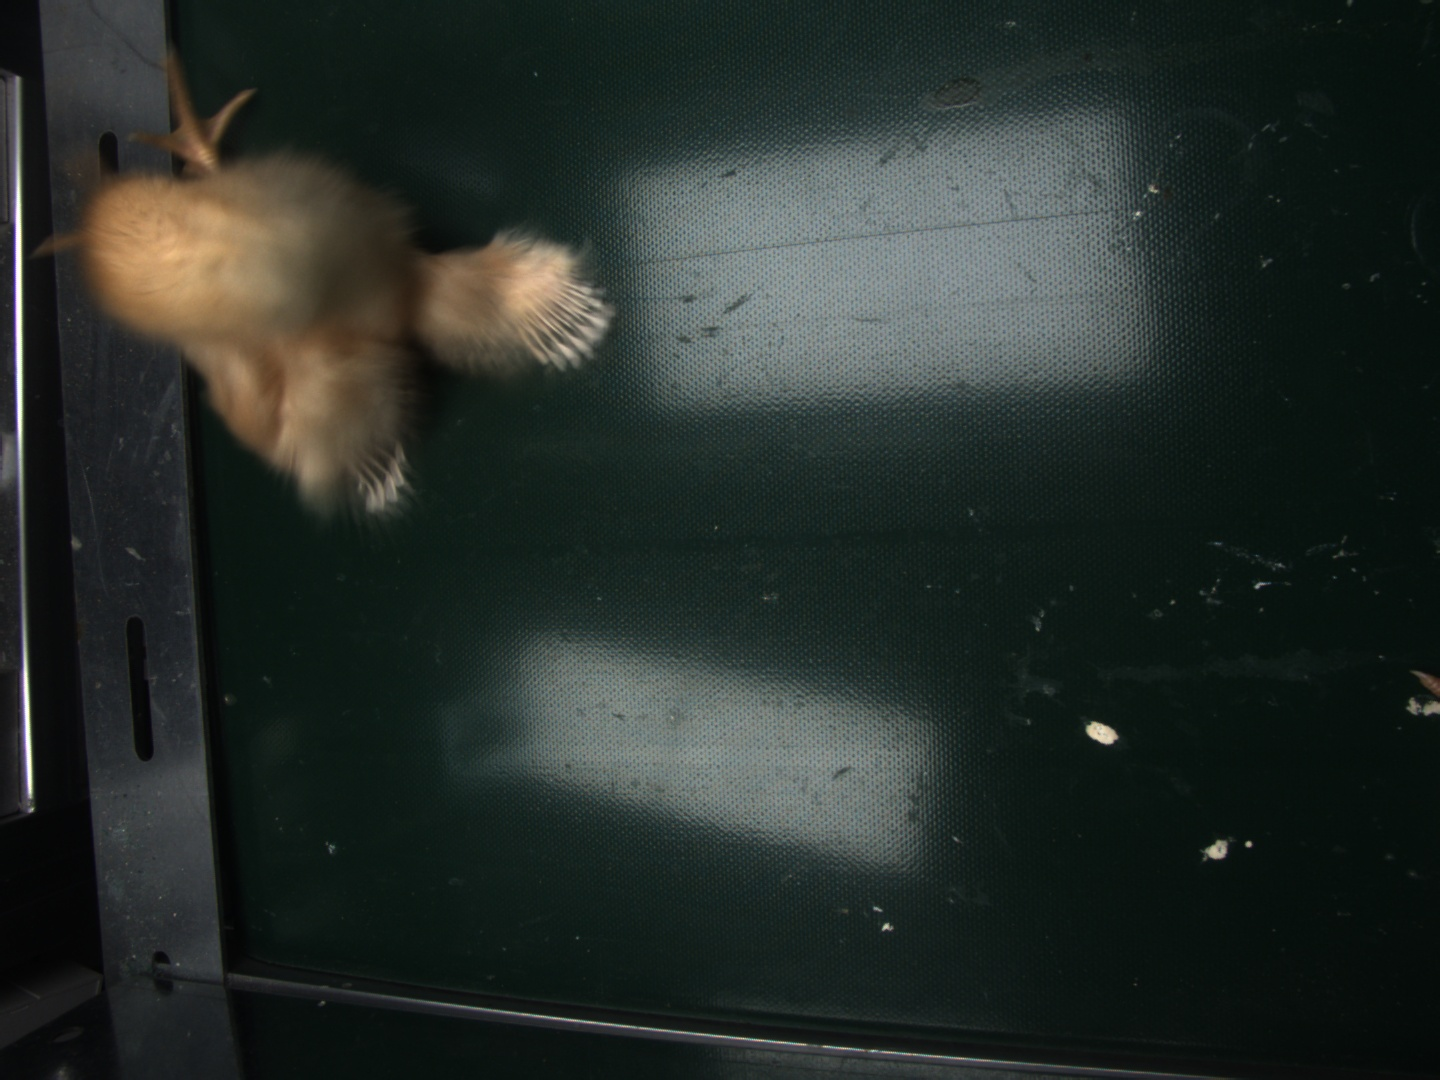female: (516, 277, 617, 370)
